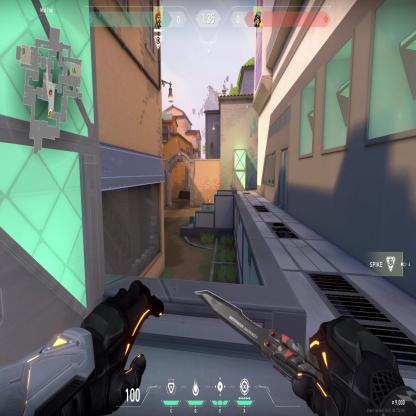enemy: (206, 194, 211, 204)
